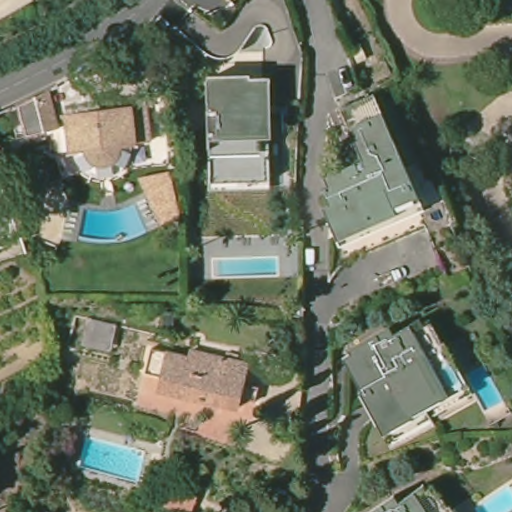pool: (79, 433, 148, 485), (77, 205, 150, 244), (465, 359, 511, 417), (208, 253, 281, 281), (471, 474, 512, 509), (440, 360, 465, 394)
